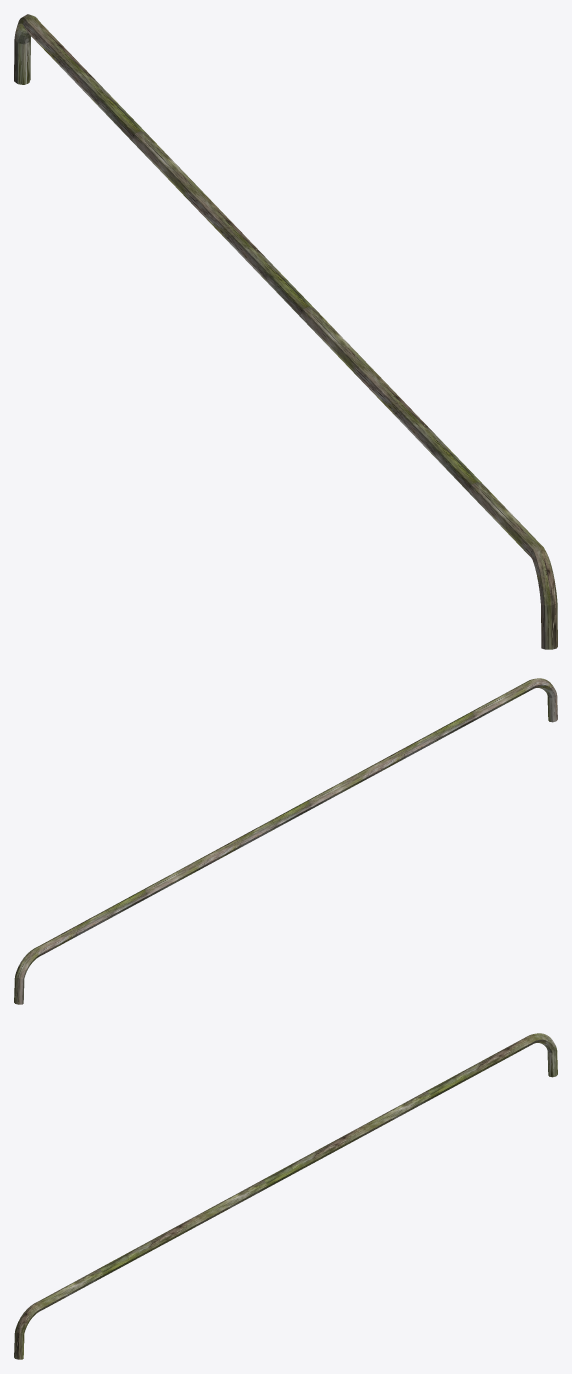
The model's file is pipe---.fbx.
3 renders of one model, top to bottom at view 1: azimuth 30°, elevation 25°; view 2: azimuth 150°, elevation 25°; view 3: azimuth 330°, elevation 25°, orthographic. The views are drawn at different scales.
Parts seen in each view (by area): view 1: pp; view 2: pp; view 3: pp.
Boxes of the visible parts, x1,y1,x2,y2 form: pp: (14,14,557,649); pp: (14,678,557,1004); pp: (14,1033,557,1359).
Size of the model in its own units: 174 by 69.04 by 1092.
